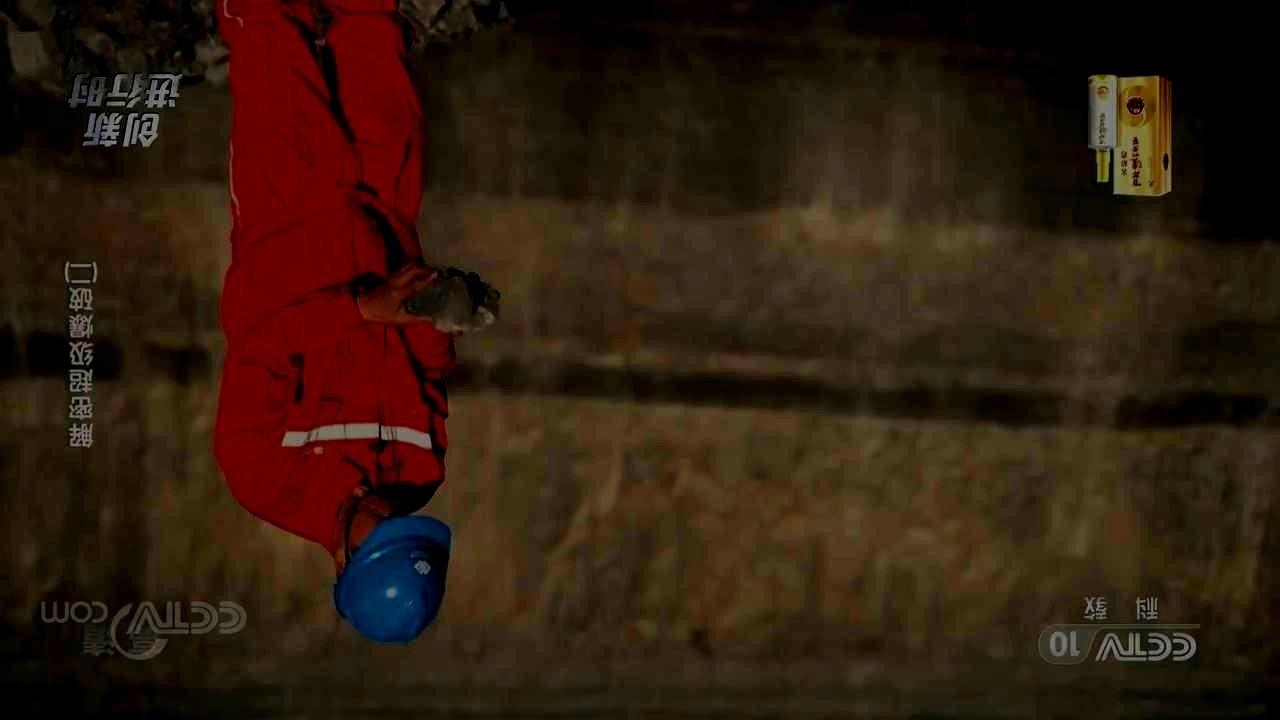helmet: (332, 494, 451, 644)
